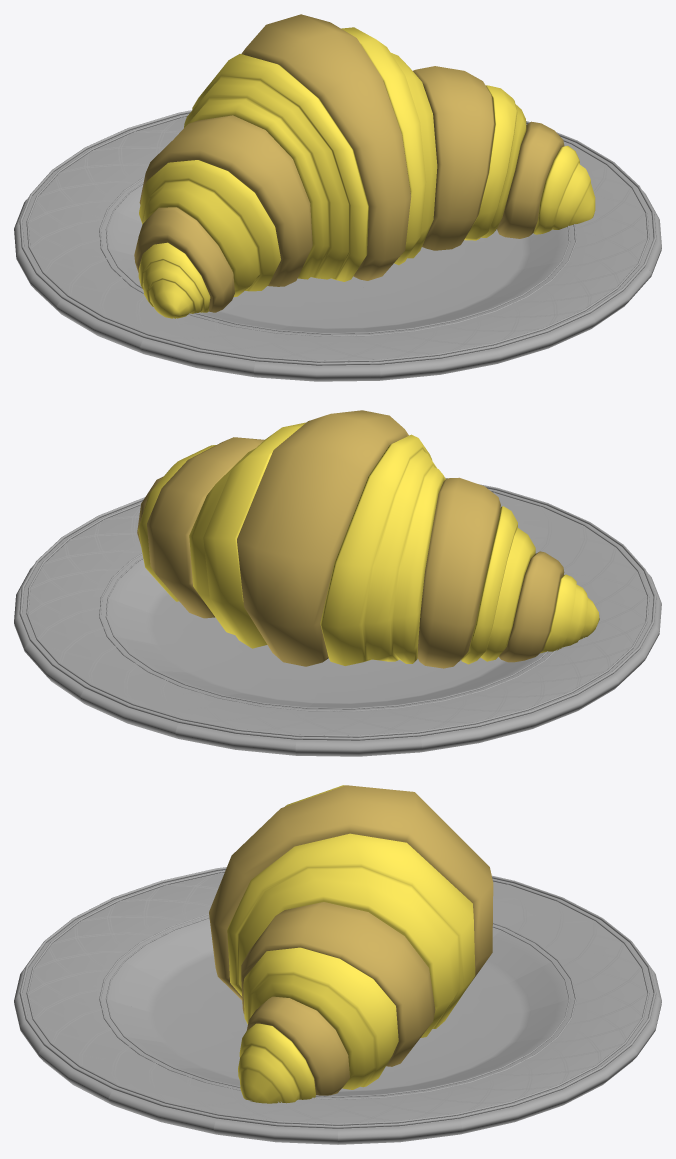
File: FrenchBakery_vs01.fbx
The picture shows the model from 3 angles, top to bottom: view 1: azimuth 30°, elevation 25°; view 2: azimuth 150°, elevation 25°; view 3: azimuth 270°, elevation 25°; orthographic projection.
Parts seen in each view (by area): view 1: S_FrenchBakery5, S_FrenchBakery1, S_FrenchBakery3, S_FrenchBakery2, S_FrenchBakery6, S_FrenchBakery4, D3_FrenchBakery135, D3_FrenchBakery88, D3_FrenchBakery109, D3_FrenchBakery116, D3_FrenchBakery147, D3_FrenchBakery28 (+18 smaller); view 2: S_FrenchBakery1, S_FrenchBakery5, S_FrenchBakery3, S_FrenchBakery4, S_FrenchBakery2, S_FrenchBakery6, D3_FrenchBakery104, D3_FrenchBakery164, D3_FrenchBakery78, D3_FrenchBakery171, D3_FrenchBakery161, D3_FrenchBakery141 (+18 smaller); view 3: S_FrenchBakery4, S_FrenchBakery1, S_FrenchBakery2, S_FrenchBakery11, D3_FrenchBakery135, D3_FrenchBakery164, D3_FrenchBakery171, D3_FrenchBakery88, D3_FrenchBakery104, D3_FrenchBakery78, D3_FrenchBakery141, D3_FrenchBakery147 (+18 smaller).
Part boxes in pixels (bbox=[...]): S_FrenchBakery5: bbox=[184, 54, 368, 281]; S_FrenchBakery1: bbox=[241, 14, 411, 280]; S_FrenchBakery3: bbox=[139, 115, 312, 286]; S_FrenchBakery2: bbox=[413, 66, 494, 250]; S_FrenchBakery6: bbox=[139, 160, 280, 297]; S_FrenchBakery4: bbox=[341, 27, 437, 265]; D3_FrenchBakery135: bbox=[254, 326, 380, 381]; D3_FrenchBakery88: bbox=[363, 318, 500, 380]; D3_FrenchBakery109: bbox=[140, 312, 287, 377]; D3_FrenchBakery116: bbox=[525, 214, 661, 275]; D3_FrenchBakery147: bbox=[435, 295, 595, 363]; D3_FrenchBakery28: bbox=[492, 261, 651, 328]; S_FrenchBakery1: bbox=[237, 410, 408, 666]; S_FrenchBakery5: bbox=[320, 434, 445, 665]; S_FrenchBakery3: bbox=[417, 477, 500, 668]; S_FrenchBakery4: bbox=[189, 422, 306, 648]; S_FrenchBakery2: bbox=[147, 437, 264, 618]; S_FrenchBakery6: bbox=[461, 506, 535, 664]; D3_FrenchBakery104: bbox=[16, 540, 162, 611]; D3_FrenchBakery164: bbox=[295, 701, 421, 756]; D3_FrenchBakery78: bbox=[14, 589, 150, 650]; D3_FrenchBakery171: bbox=[175, 693, 312, 755]; D3_FrenchBakery161: bbox=[388, 687, 535, 752]; D3_FrenchBakery141: bbox=[80, 670, 240, 738]; S_FrenchBakery4: bbox=[227, 833, 475, 1037]; S_FrenchBakery1: bbox=[209, 785, 493, 1000]; S_FrenchBakery2: bbox=[241, 902, 435, 1066]; S_FrenchBakery11: bbox=[243, 947, 398, 1089]; D3_FrenchBakery135: bbox=[45, 900, 200, 979]; D3_FrenchBakery164: bbox=[488, 900, 630, 979]; D3_FrenchBakery171: bbox=[517, 944, 661, 1010]; D3_FrenchBakery88: bbox=[14, 944, 158, 1010]; D3_FrenchBakery104: bbox=[338, 1086, 461, 1144]; D3_FrenchBakery78: bbox=[412, 1068, 566, 1134]; D3_FrenchBakery141: bbox=[517, 995, 661, 1056]; D3_FrenchBakery147: bbox=[14, 995, 158, 1056].
Bounding box in the file's own units: 790 × 312 × 790.
